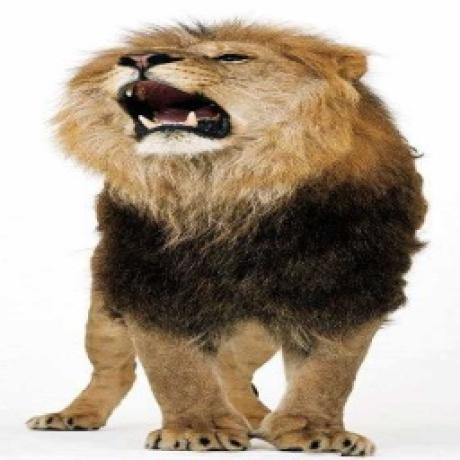Lion: (26, 14, 429, 460)
